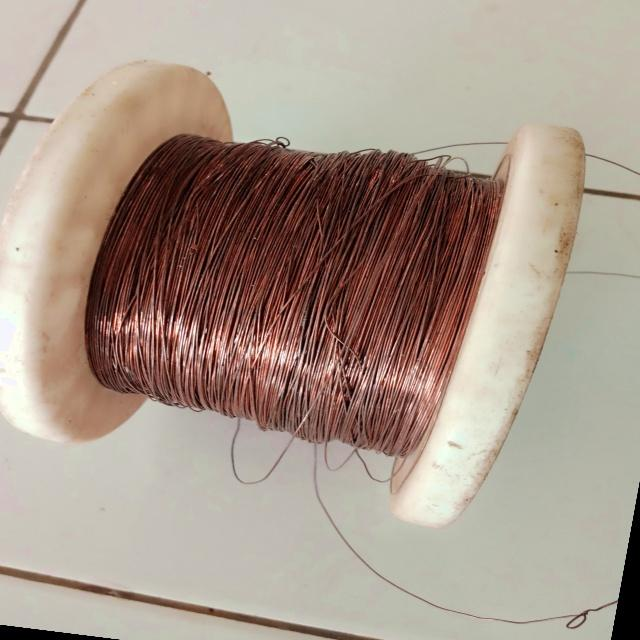Copper Wire: (0, 36, 619, 538)
